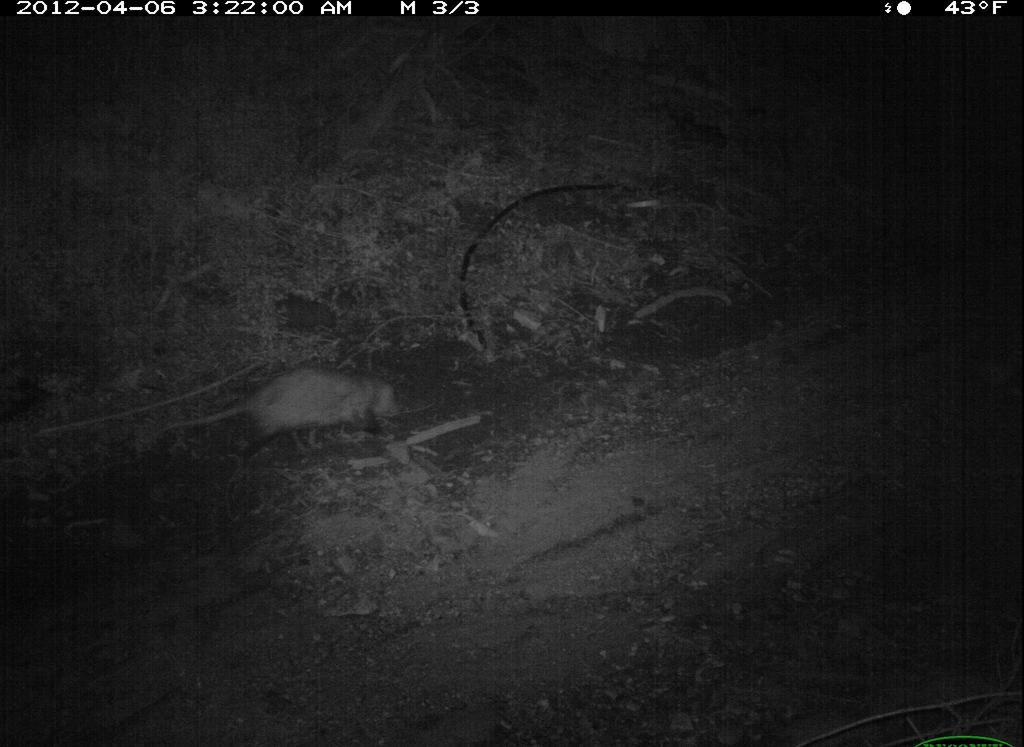opossum: (130, 356, 423, 459)
